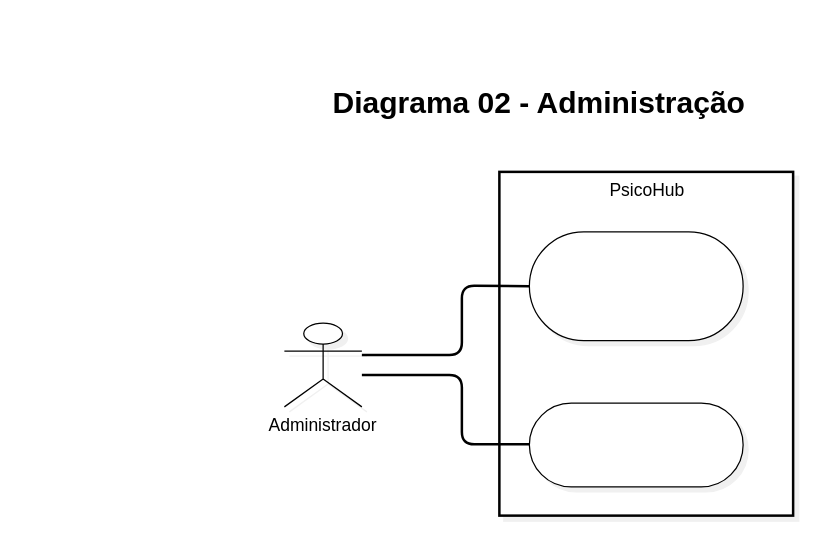
The diagram is 820 pixels wide and 543 high, and some of its shapes have lost their labels. Here are the shapes that lost their labels. From the top down, the centre of each, then its label:
point 638,288: RF-008 Exibir painel administrativo
point 638,447: RF-009 Consultar a auditoria
